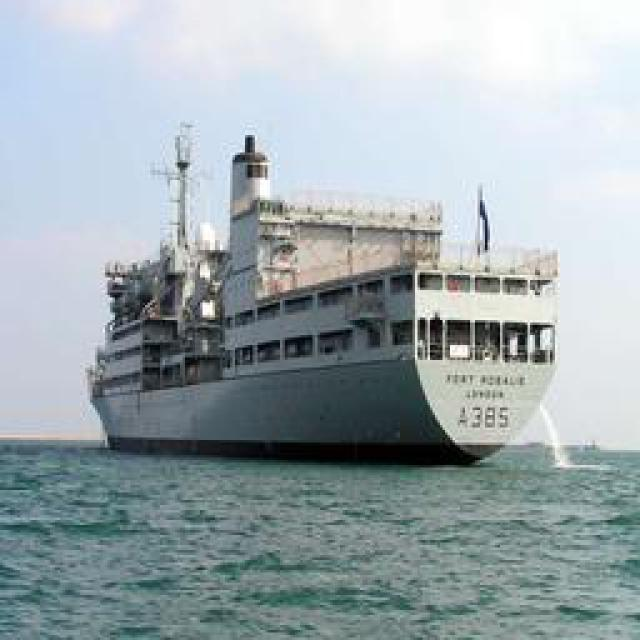Ship: (87, 130, 567, 463)
